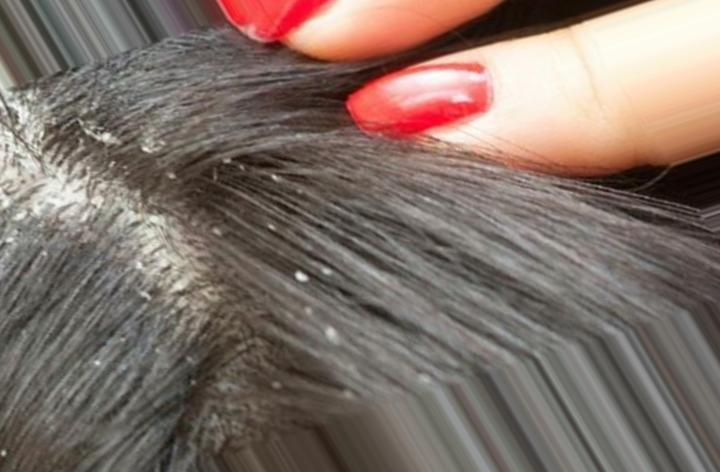Contact Dermatitis: (46, 99, 379, 399)
